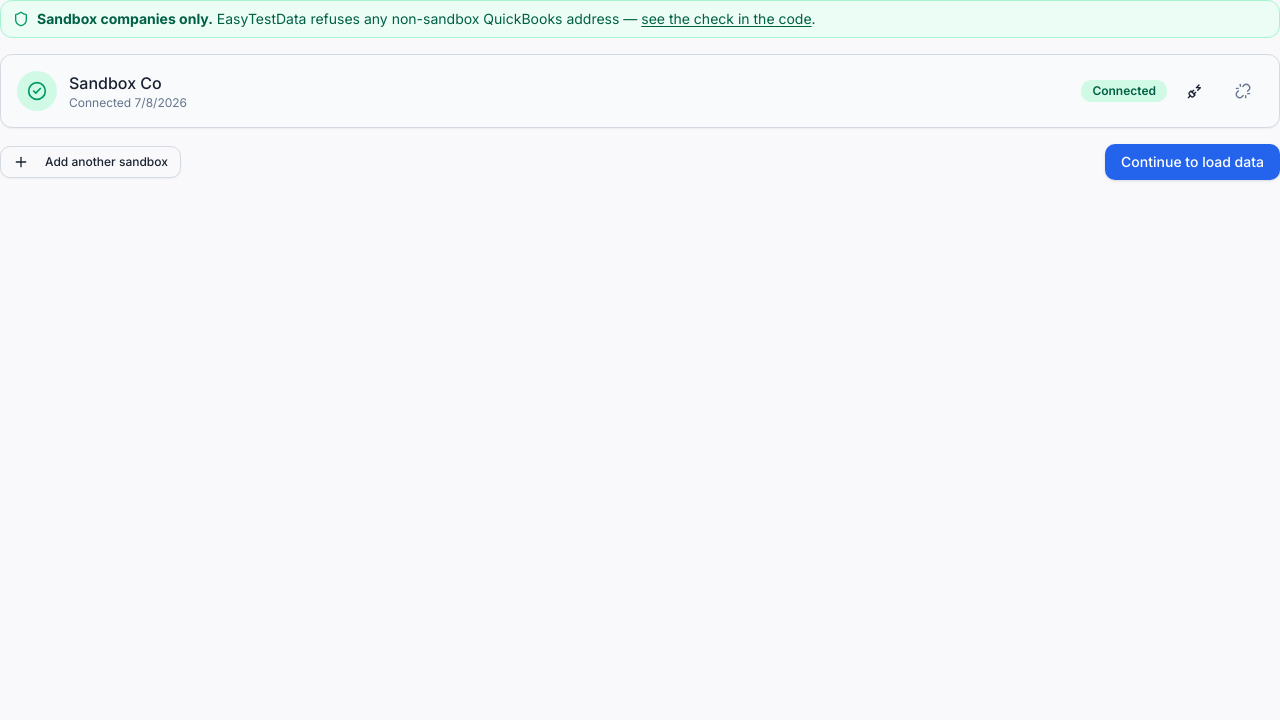
it: ConnectStep › keeps connection removal pending until the delete request settles
Click the button named "Disconnect Sandbox Co" at (1243, 91), box [1223,75,1263,107]
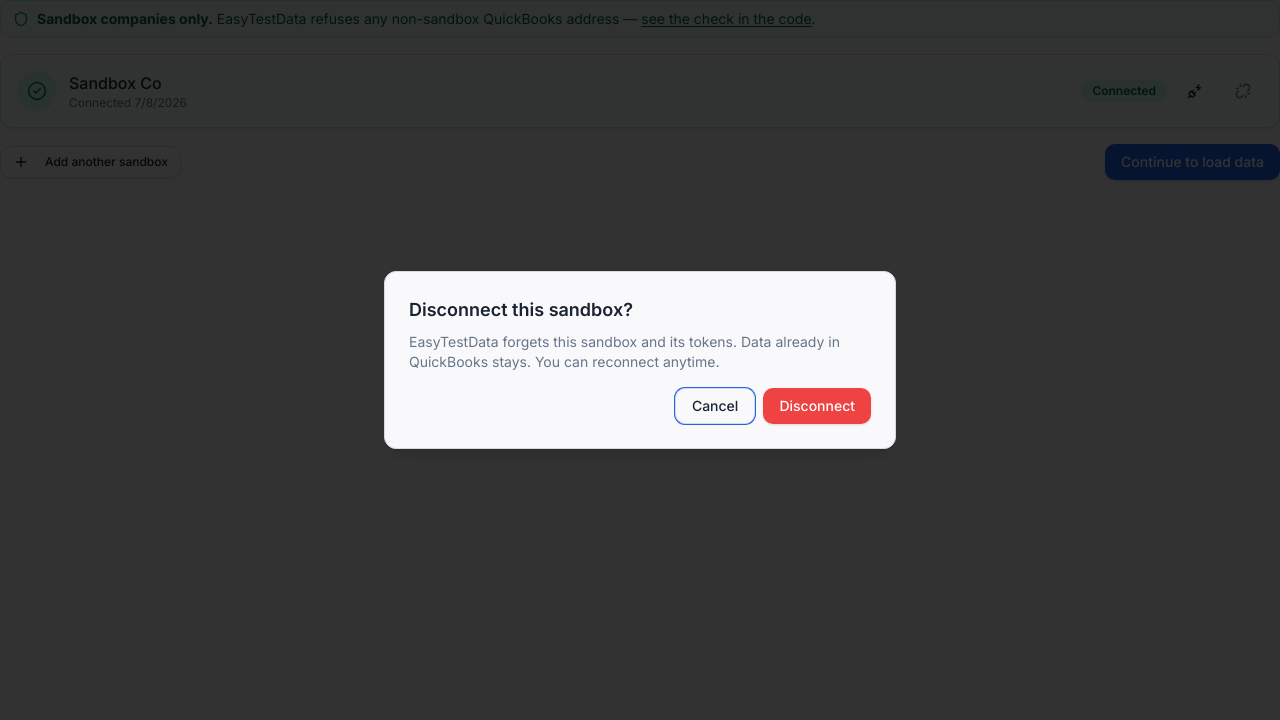
Click the button "Disconnect" at (817, 406), box [763,388,871,424]
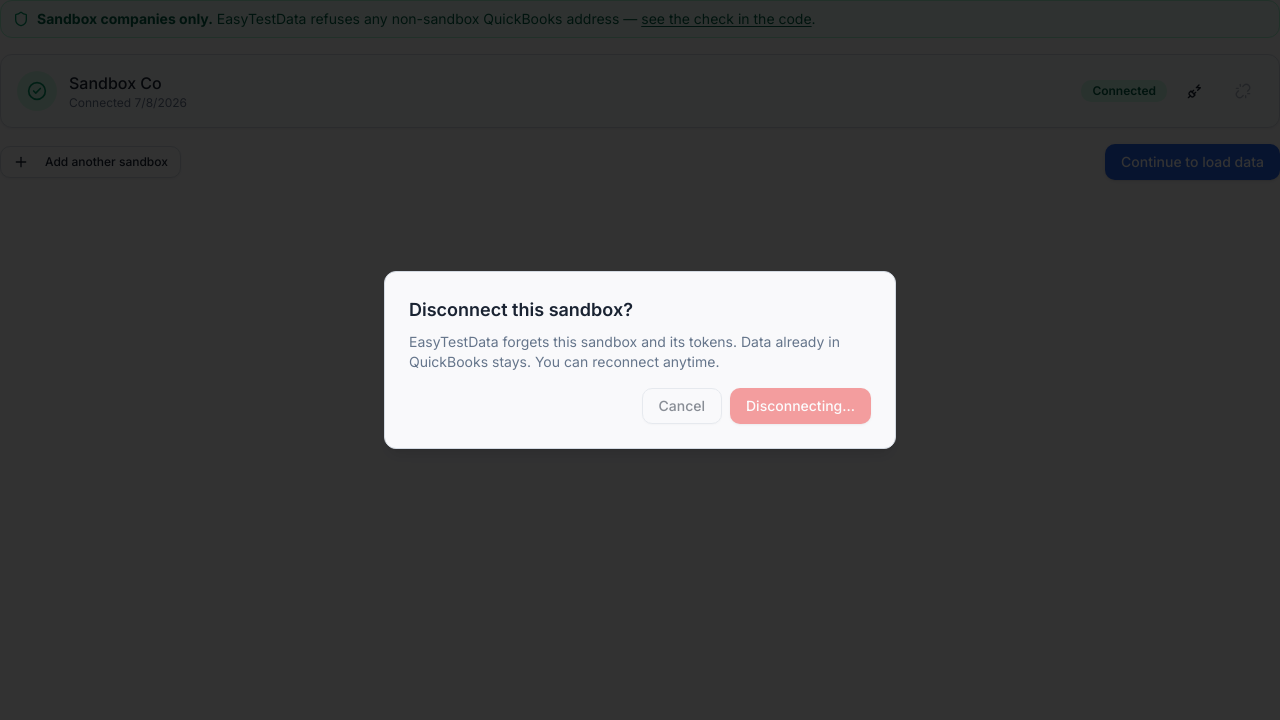
Result: the button "Disconnecting..." is disabled
Result: the button "Cancel" is disabled at [642,388,722,424]
Click the button "Disconnecting..." at (800, 406), box [730,388,871,424]
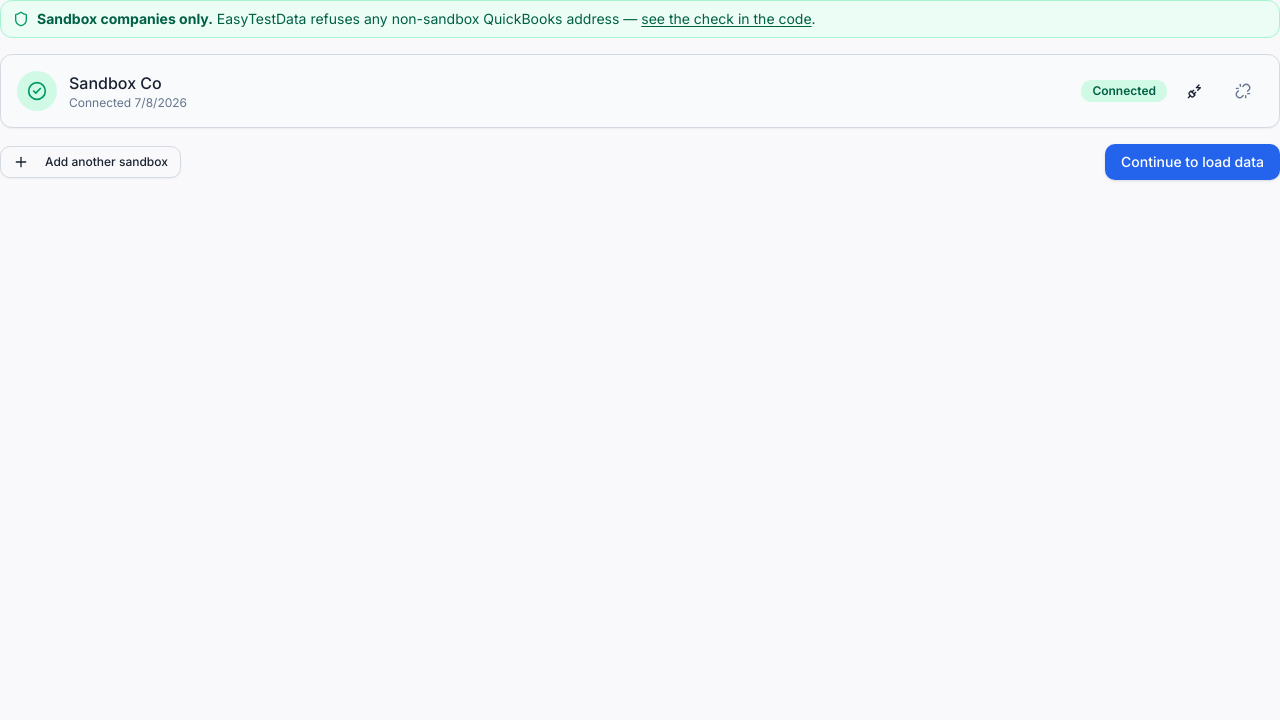
Result: the heading "Disconnect this sandbox?" is gone
